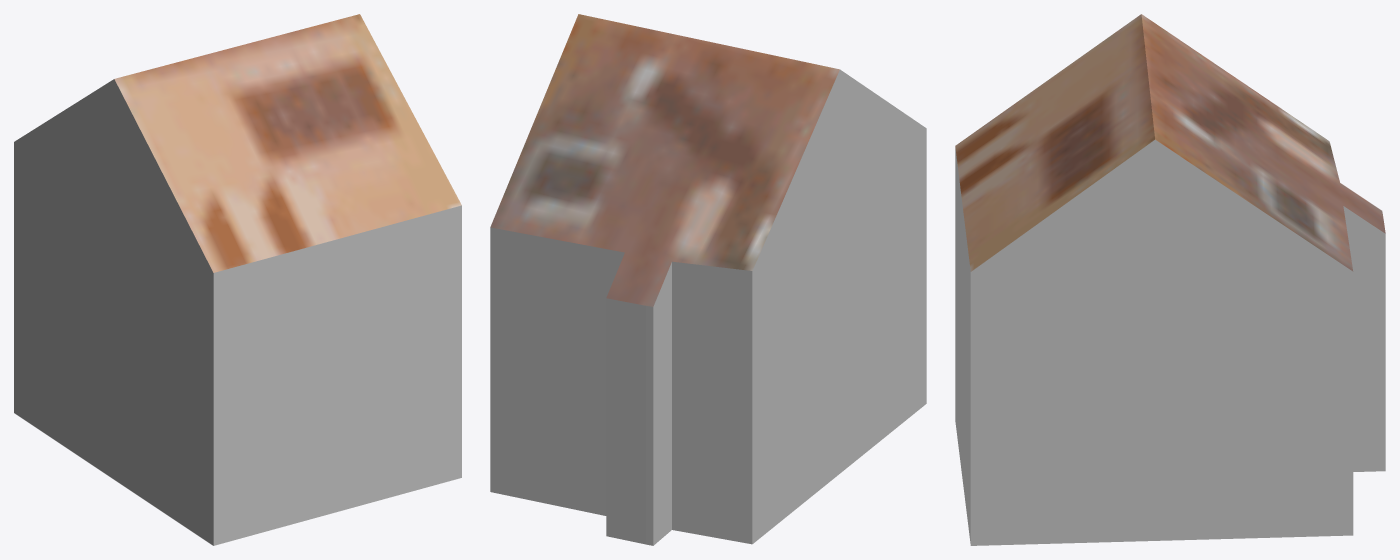
File: DEBW_0010007Tx9k.gltf
The picture shows the model from 3 angles, left to right: view 1: azimuth 30°, elevation 25°; view 2: azimuth 150°, elevation 25°; view 3: azimuth 270°, elevation 25°; orthographic projection.
Parts seen in each view (by area): view 1: Z_UP; view 2: Z_UP; view 3: Z_UP.
Part boxes in pixels (left/top/right/bottom): Z_UP: left=14, top=14, right=461, bottom=545; Z_UP: left=490, top=14, right=926, bottom=545; Z_UP: left=955, top=14, right=1385, bottom=545.
Size of the model in its own units: 8.86 by 12.59 by 12.19.
2 materials, 1 textured.
